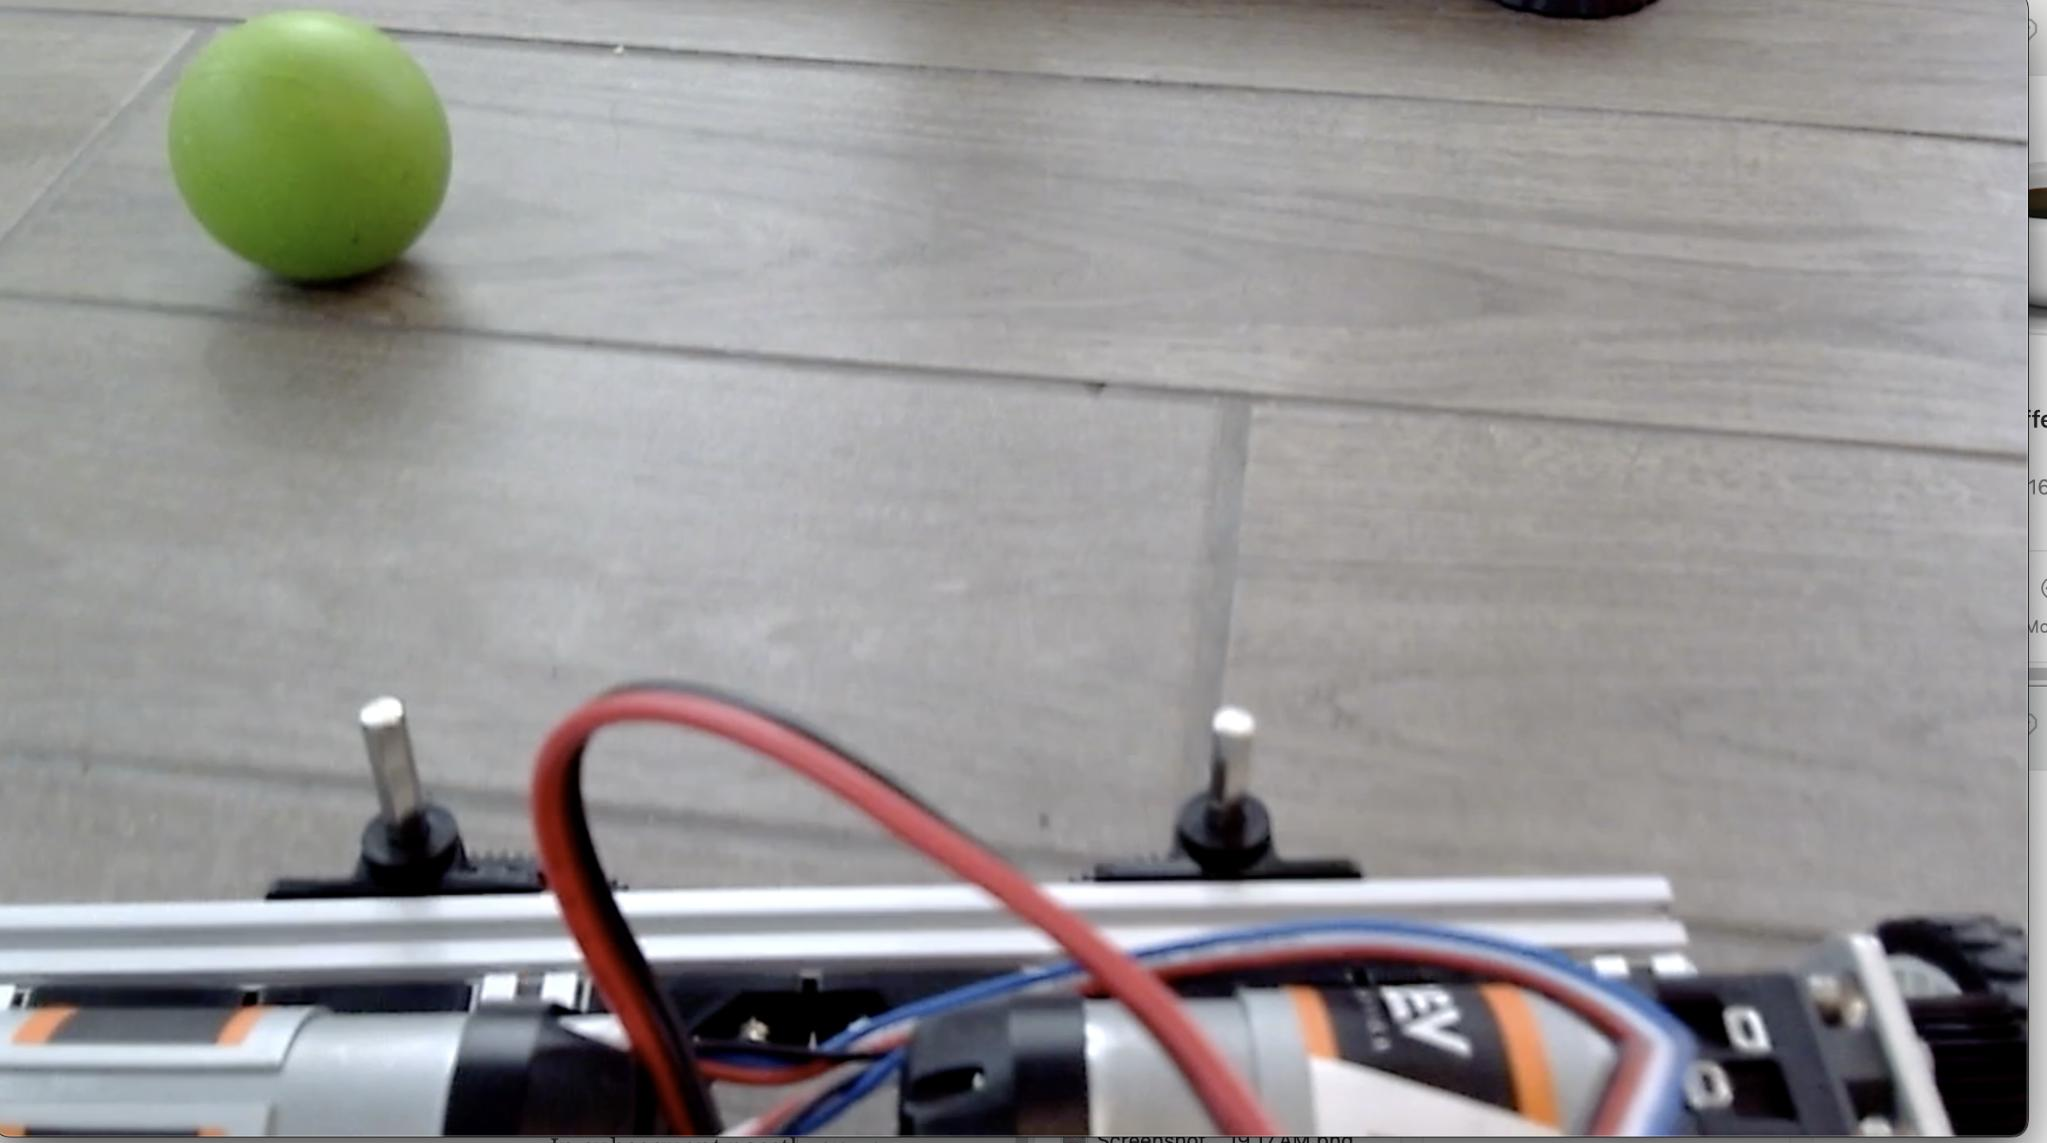greenball: (164, 8, 454, 286)
